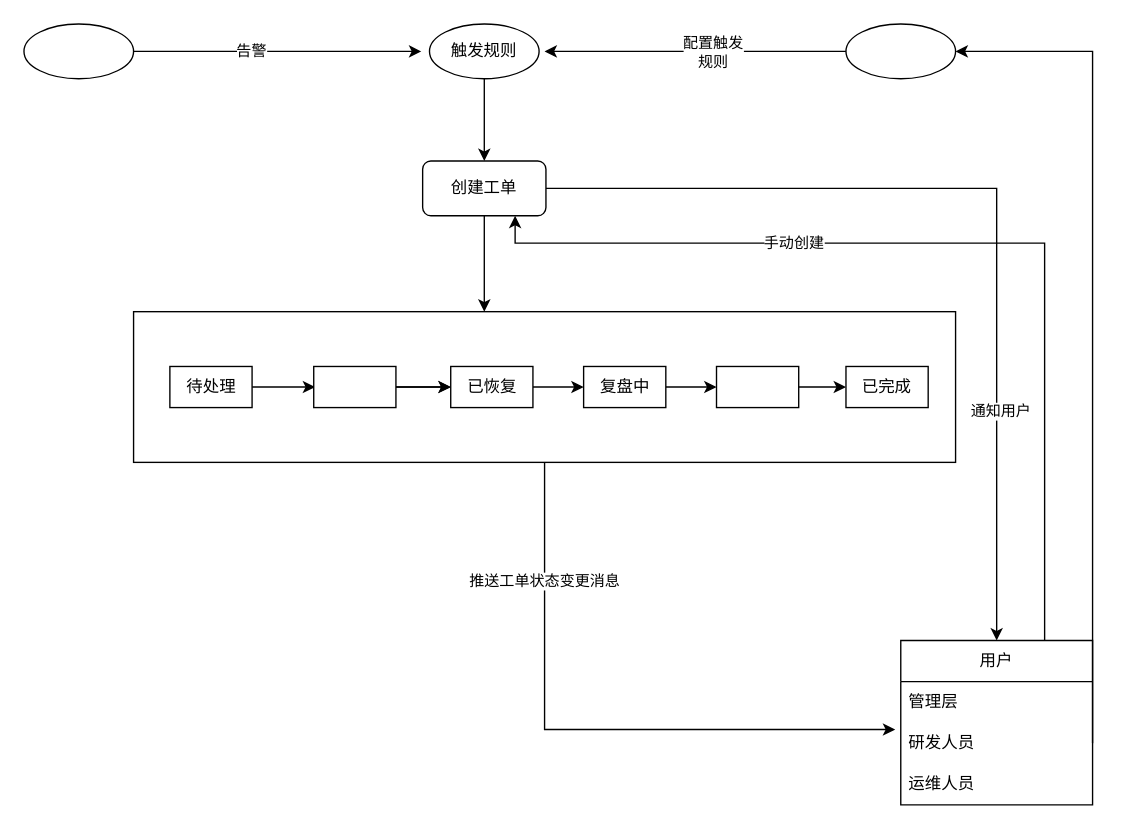
This 1128x829 diagram has some shape labels left out. Each missing label, with the centre of its shape:
"处理中" belongs at (x=354, y=386).
"已复盘" belongs at (x=757, y=386).
"烽火台" belongs at (x=78, y=51).
"策略中心" belongs at (x=900, y=51).
